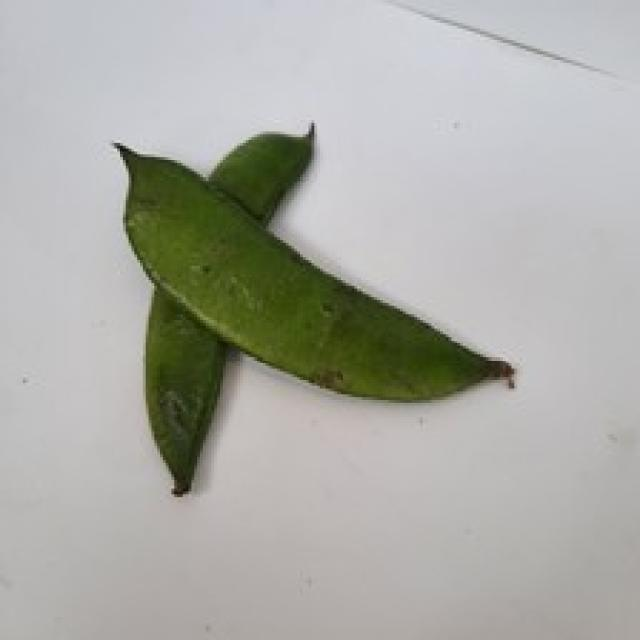Bean: (112, 134, 514, 403), (143, 286, 226, 494)
